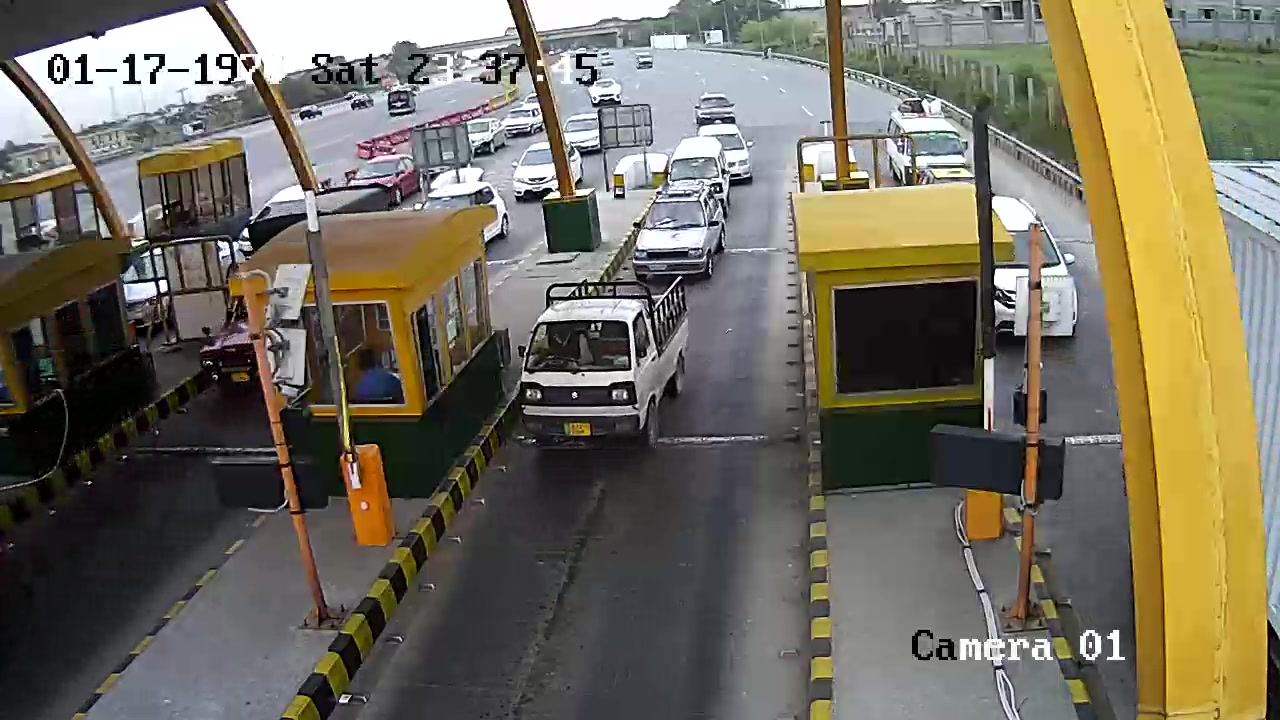F1: (515, 276, 703, 475), (627, 185, 728, 279)
